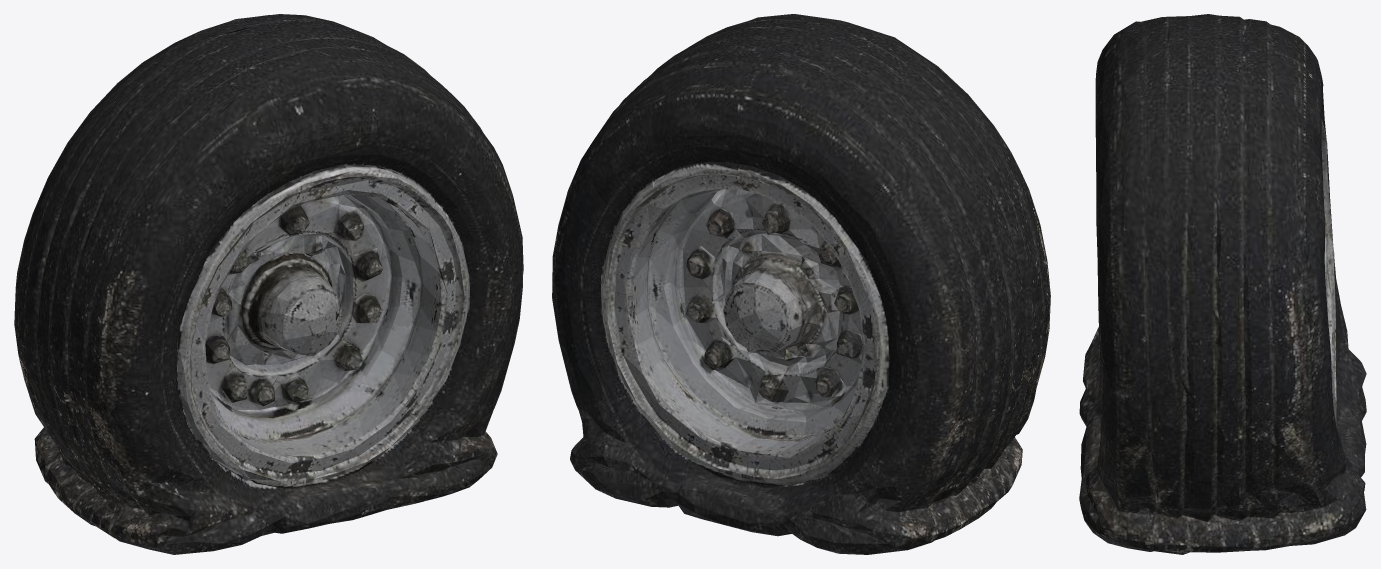
File: tire_broken.glb
The picture shows the model from 3 angles, left to right: view 1: azimuth 30°, elevation 25°; view 2: azimuth 150°, elevation 25°; view 3: azimuth 270°, elevation 25°; orthographic projection. The views are drawn at different scales.
Parts seen in each view (by area): view 1: tire_broken; view 2: tire_broken; view 3: tire_broken.
Part boxes in pixels (<box>): tire_broken: <box>14,14,523,554</box>; tire_broken: <box>552,14,1050,554</box>; tire_broken: <box>1079,14,1366,554</box>.
Size of the model in its own units: 1.9 by 1.85 by 1.11.
1 material, 1 textured.
